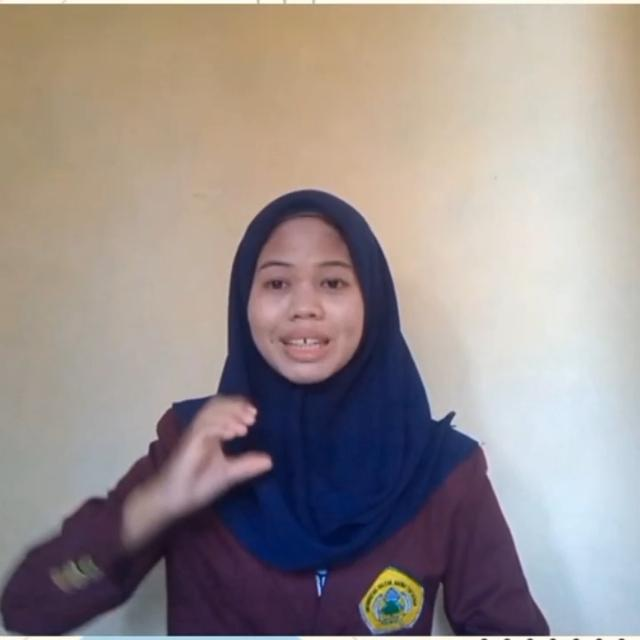C: (167, 395, 275, 513)
